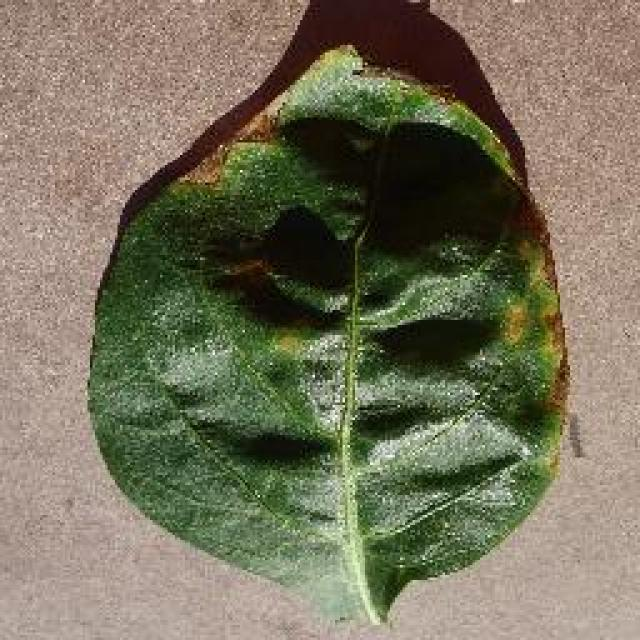Chilli_Bacterial_Spot: (82, 40, 572, 628), (202, 198, 368, 328), (492, 298, 530, 348)
